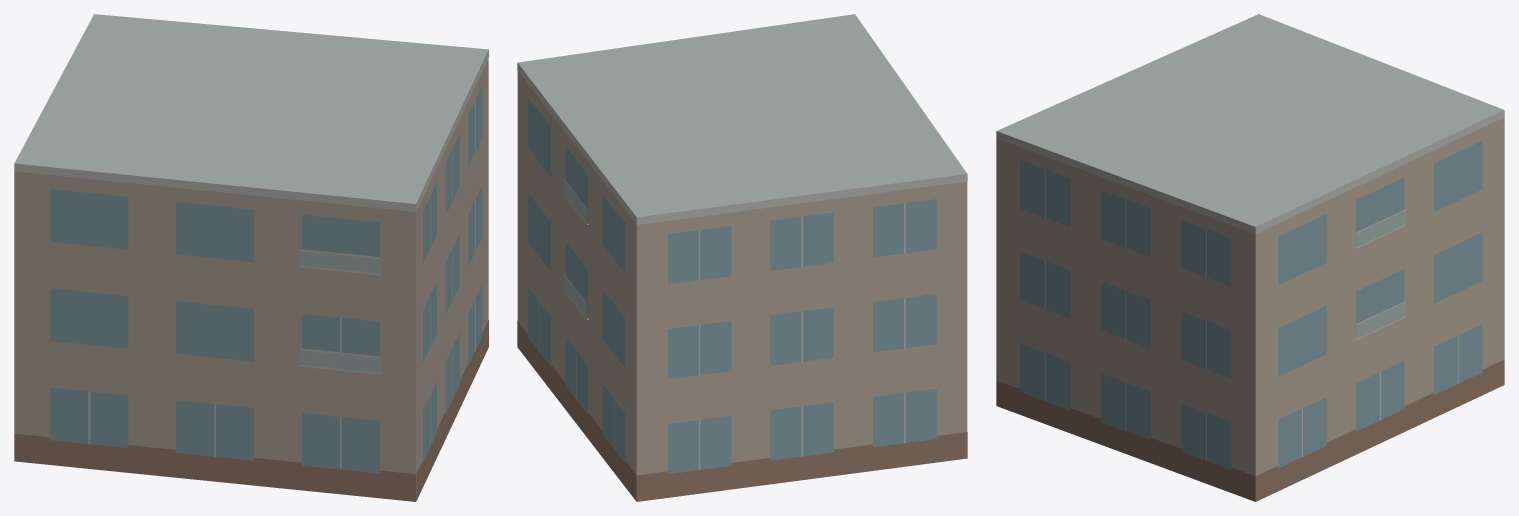
The model's file is survey-upis-32525873.glb.
3 renders of one model, left to right at view 1: azimuth 30°, elevation 25°; view 2: azimuth 150°, elevation 25°; view 3: azimuth 270°, elevation 25°, orthographic. The views are drawn at different scales.
Visible parts, largest first — view 1: survey-upis-32525873.tmp; view 2: survey-upis-32525873.tmp; view 3: survey-upis-32525873.tmp.
Boxes of the visible parts, x1,y1,x2,y2 form: survey-upis-32525873.tmp: (14, 14, 488, 501); survey-upis-32525873.tmp: (517, 14, 967, 501); survey-upis-32525873.tmp: (996, 14, 1504, 501).
Size of the model in its own units: 15.21 by 9.15 by 15.34.
